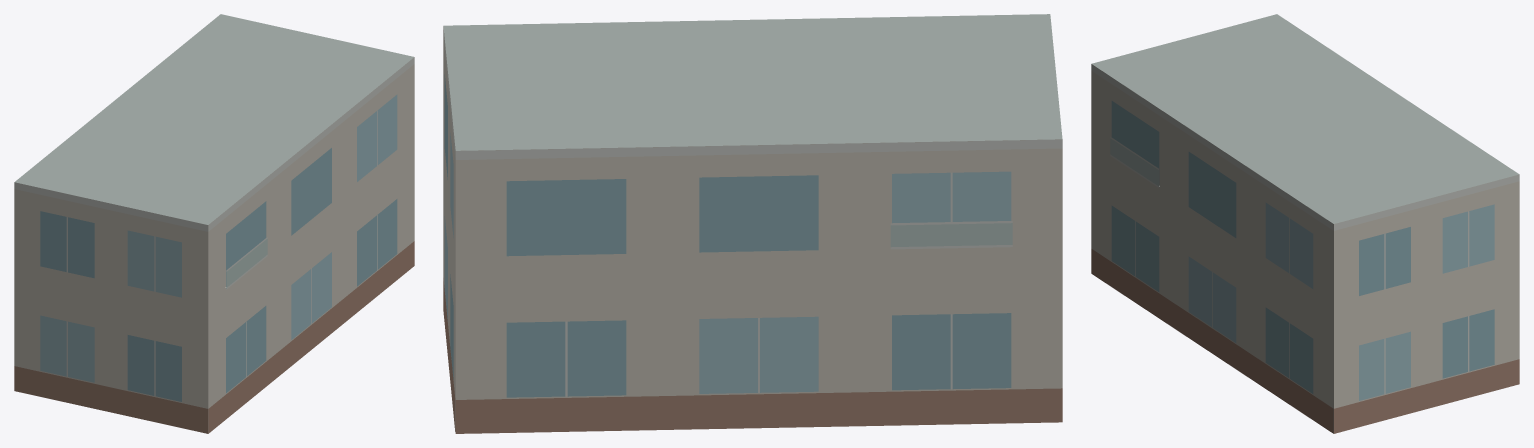
Rendered from survey-upis-32621823.glb.
3 renders of one model, left to right at view 1: azimuth 30°, elevation 25°; view 2: azimuth 150°, elevation 25°; view 3: azimuth 270°, elevation 25°, orthographic. The views are drawn at different scales.
Visible parts, largest first — view 1: survey-upis-32621823.tmp; view 2: survey-upis-32621823.tmp; view 3: survey-upis-32621823.tmp.
Boxes of the visible parts, <box> form: survey-upis-32621823.tmp: <box>14,14,414,433</box>; survey-upis-32621823.tmp: <box>443,14,1062,433</box>; survey-upis-32621823.tmp: <box>1091,14,1519,433</box>.
Size of the model in its own units: 16.12 by 7.5 by 13.89.
